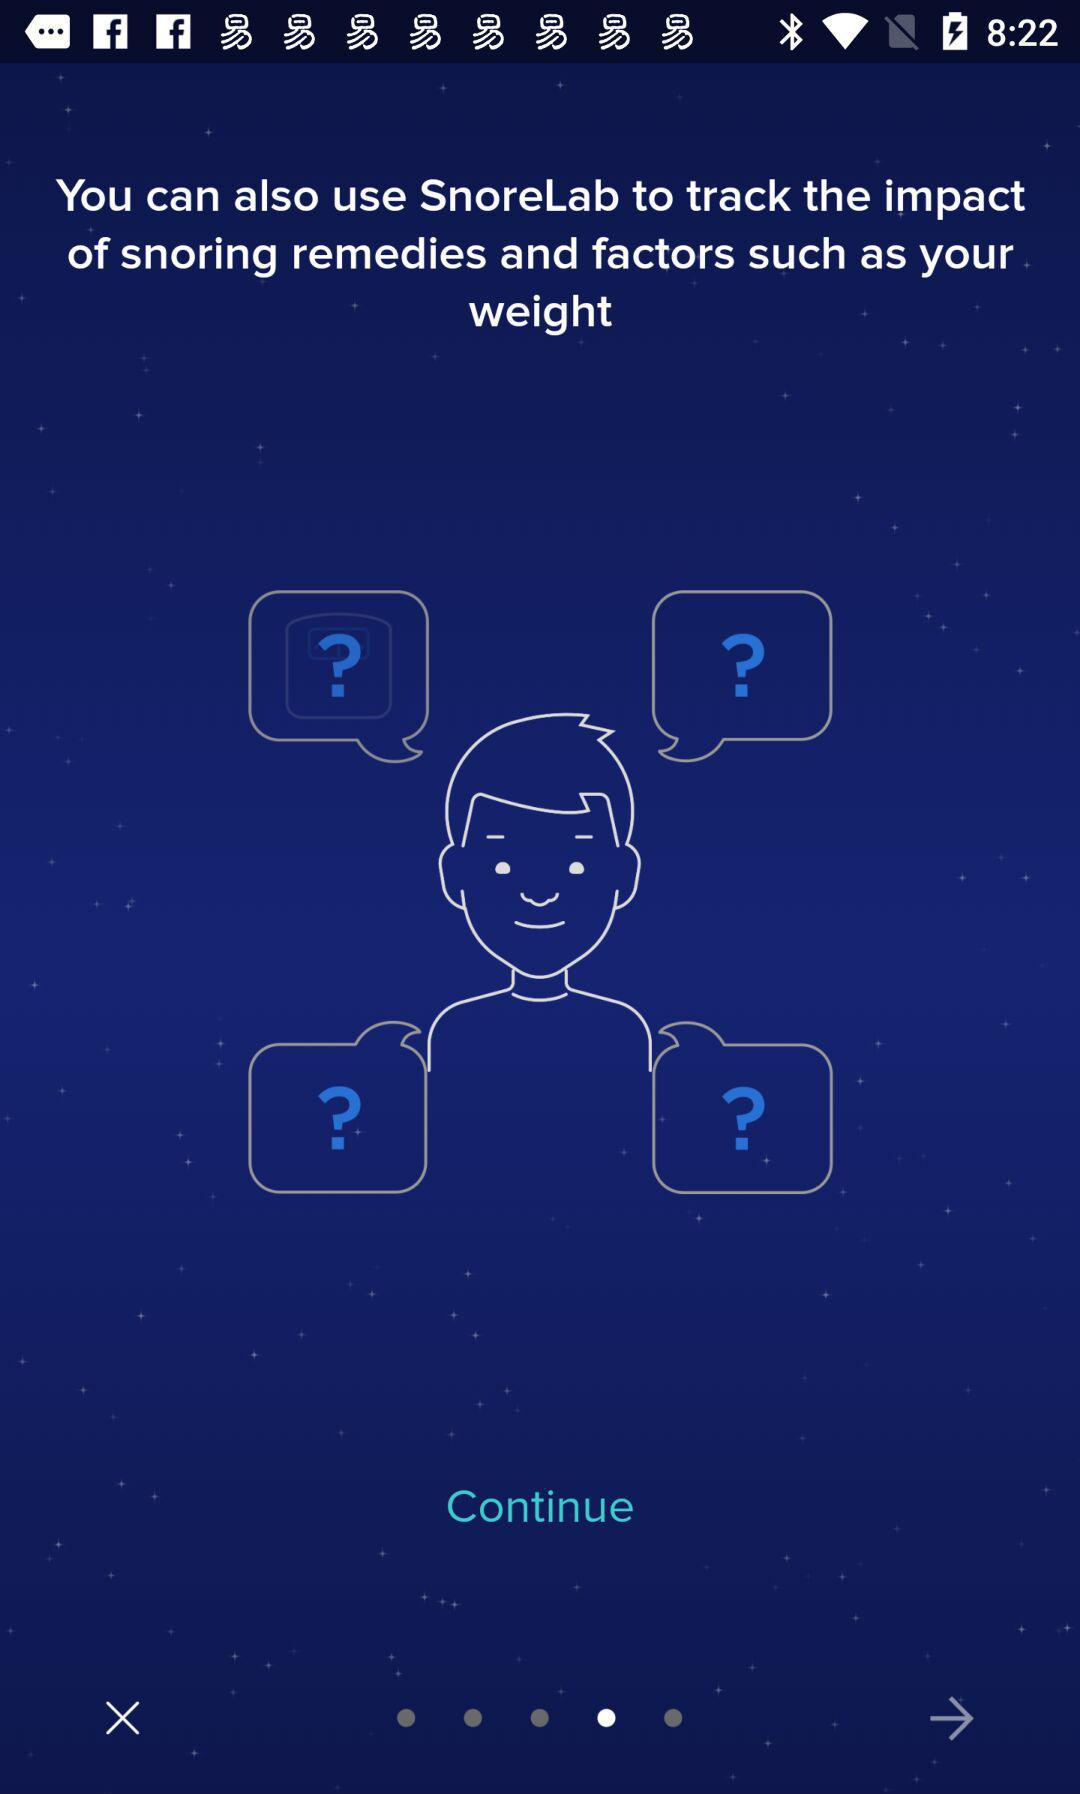Icon: (930, 1697, 972, 1741), (104, 1700, 143, 1736)
Image: (245, 586, 840, 1199)
PageIndicator: (396, 1707, 685, 1730)
Text: (55, 178, 1027, 337), (447, 1490, 635, 1525)
UpperTaskBar: (1, 1, 1080, 64)
